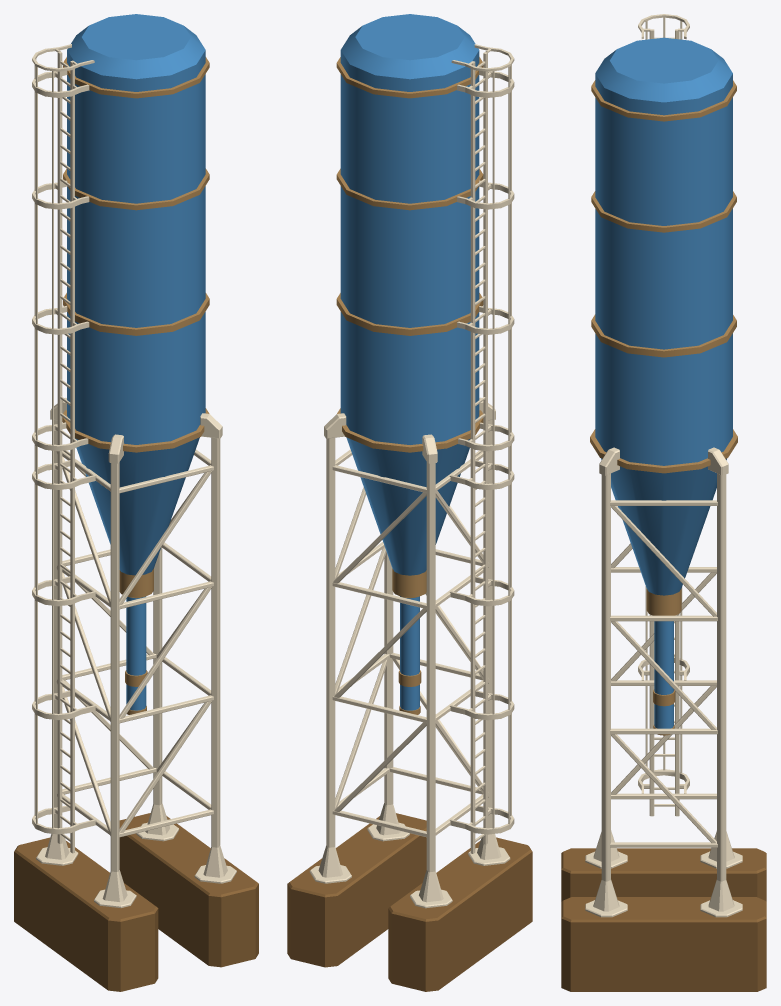
The model's file is farmstractures_24.gltf.
The picture shows the model from 3 angles, left to right: view 1: azimuth 30°, elevation 25°; view 2: azimuth 150°, elevation 25°; view 3: azimuth 270°, elevation 25°; orthographic projection.
Visible parts, largest first — view 1: body, blades; view 2: body, blades; view 3: body, blades.
Boxes of the visible parts, <box> form: body: <box>14,14,258,991</box>; blades: <box>34,52,74,853</box>; body: <box>287,14,532,991</box>; blades: <box>470,53,511,853</box>; body: <box>561,14,766,991</box>; blades: <box>645,17,682,816</box>.
Size of the model in its own units: 2.93 by 14.32 by 2.98.
1 material, 1 textured.
